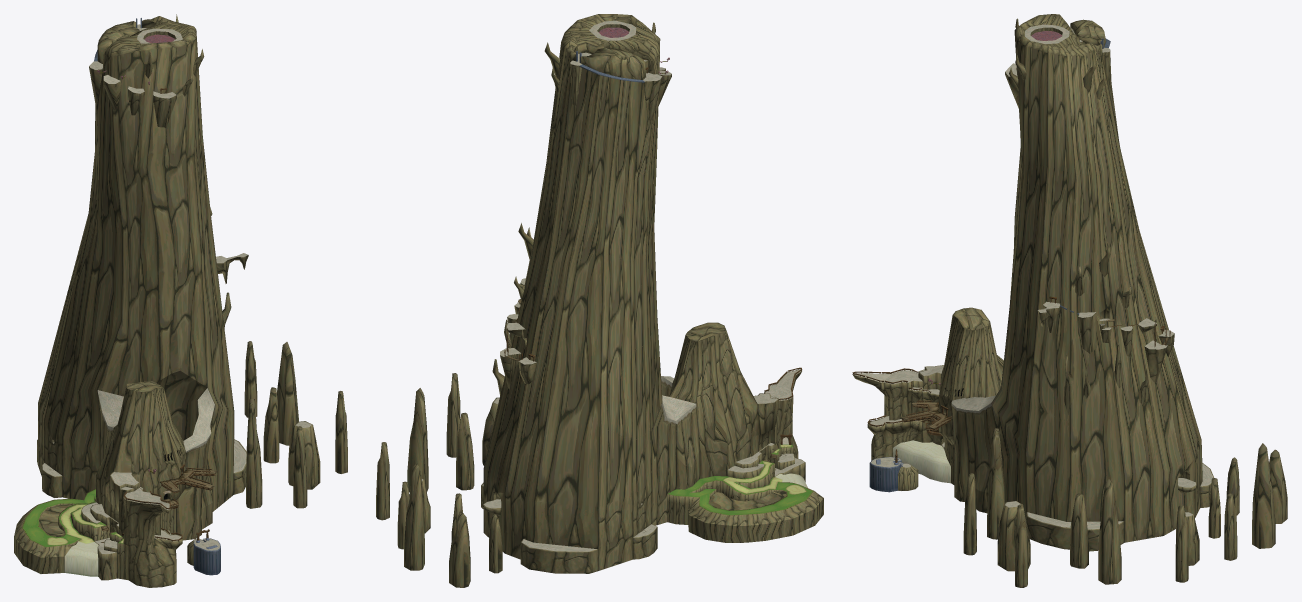
The model's file is dragonRoostIsland2.fbx.
The picture shows the model from 3 angles, left to right: view 1: azimuth 30°, elevation 25°; view 2: azimuth 150°, elevation 25°; view 3: azimuth 270°, elevation 25°; orthographic projection. The views are drawn at different scales.
Visible parts, largest first — view 1: model:Mesh; view 2: model:Mesh; view 3: model:Mesh.
Part boxes in pixels (x1,y1,x2,y2): model:Mesh: (14,14,347,587); model:Mesh: (376,14,823,587); model:Mesh: (852,14,1287,587).
Size of the model in its own units: 298 by 393 by 327.
11 materials, 11 textured.
